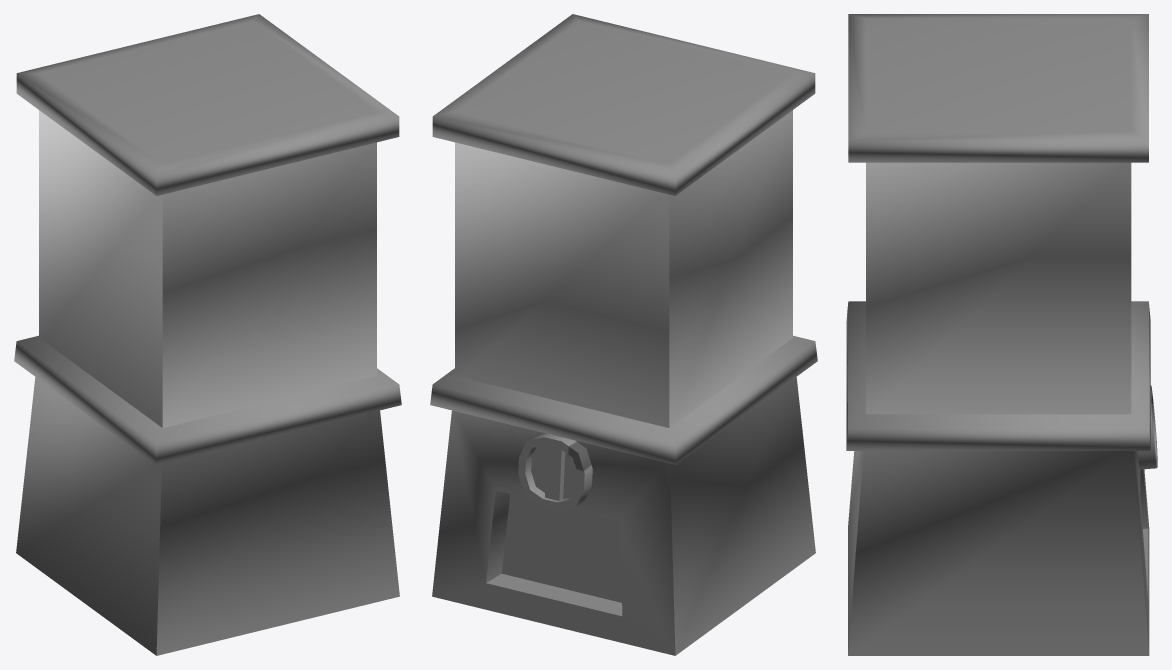
The model's file is GachaMachine_hand.fbx.
The picture shows the model from 3 angles, left to right: view 1: azimuth 30°, elevation 25°; view 2: azimuth 150°, elevation 25°; view 3: azimuth 270°, elevation 25°; orthographic projection. The views are drawn at different scales.
Visible parts, largest first — view 1: Machine; view 2: Machine; view 3: Machine.
Part boxes in pixels (x1,y1,x2,y2): Machine: (14, 14, 401, 655); Machine: (430, 14, 817, 655); Machine: (846, 14, 1157, 655).
Bounding box in the file's own units: 0.524 × 0.9822 × 0.5357.
